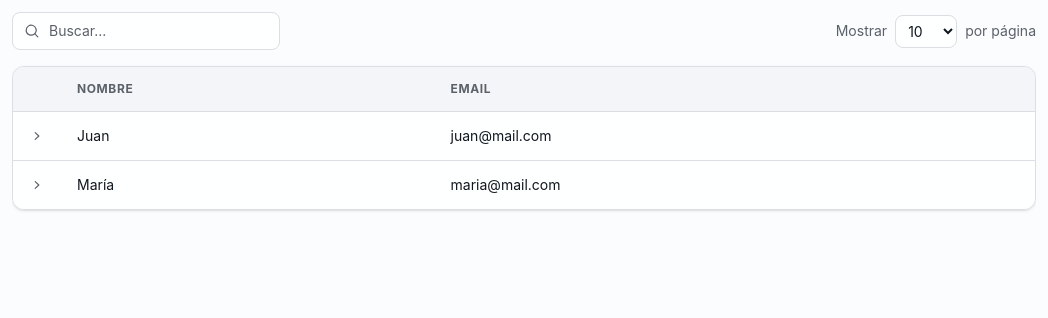
DataTable › expands on row click when there is no selection
What coordinates should you click on to do the following:
click the text "Juan"
I would click on:
 (93, 136)
Its box is [77,127,109,144].
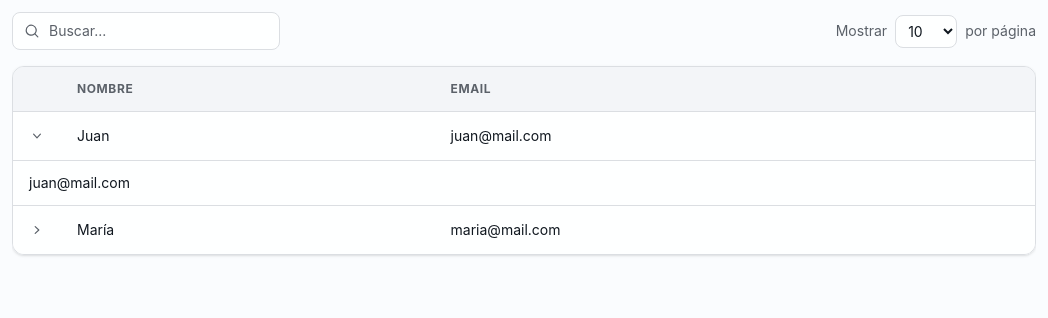
Expected: the text with test id "expanded-1" is shown, [29,174,130,191]
What coordinates should you click on to do the following:
click the text "María"
I would click on:
 (96, 230)
Its box is [77,221,114,238].
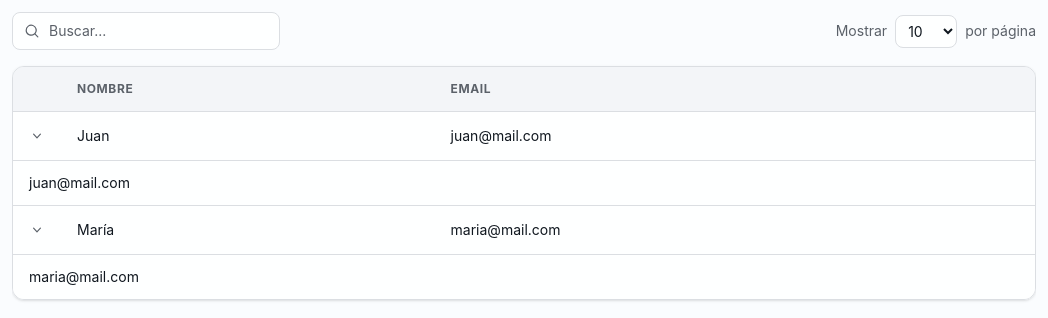
Expected: the text with test id "expanded-2" is shown, [29,268,139,285]
